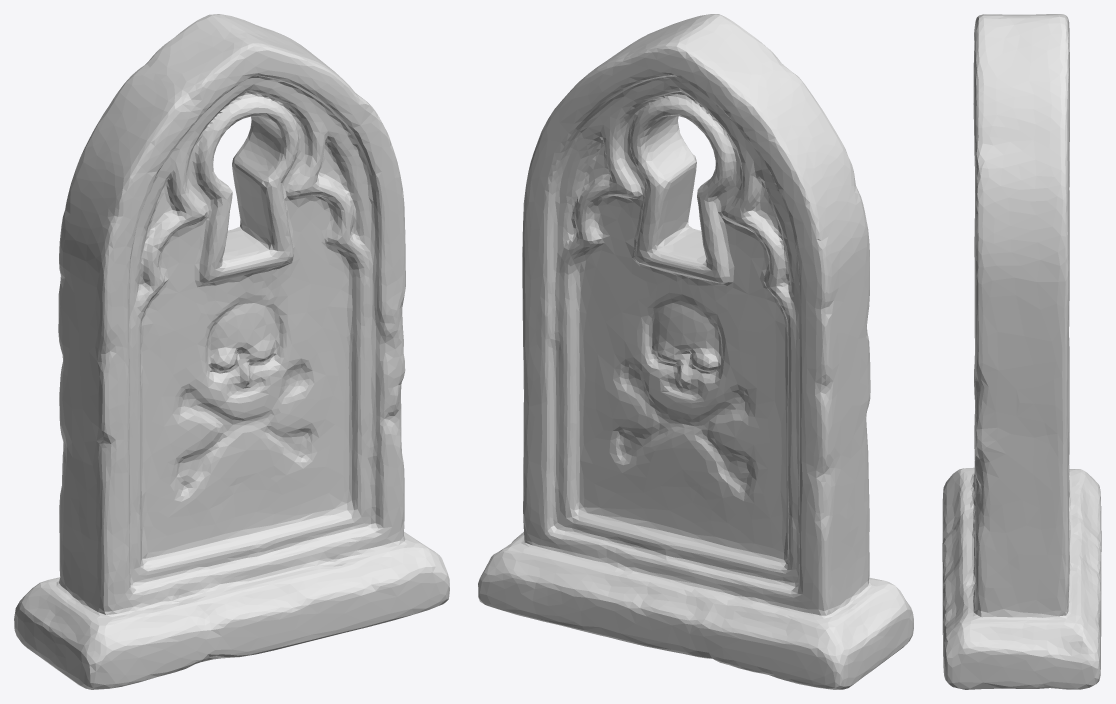
File: tombstone01.glb
The picture shows the model from 3 angles, left to right: view 1: azimuth 30°, elevation 25°; view 2: azimuth 150°, elevation 25°; view 3: azimuth 270°, elevation 25°; orthographic projection.
Parts seen in each view (by area): view 1: Low; view 2: Low; view 3: Low.
Boxes of the visible parts, box(x1,y1,x2,y2) form: Low: box(14, 14, 449, 689); Low: box(478, 14, 913, 689); Low: box(942, 14, 1101, 689).
Bounding box in the file's own units: 1.28 × 1.99 × 0.4876.
Materials: 1 (1 with a texture image).
